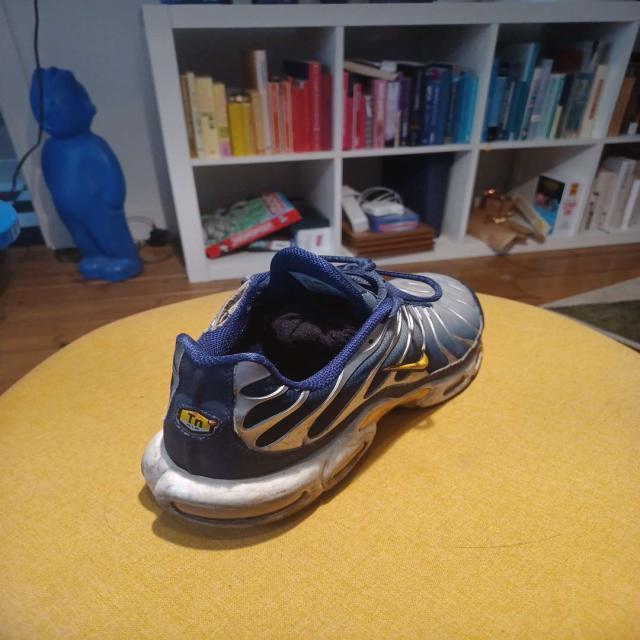shoes: (140, 246, 485, 528)
